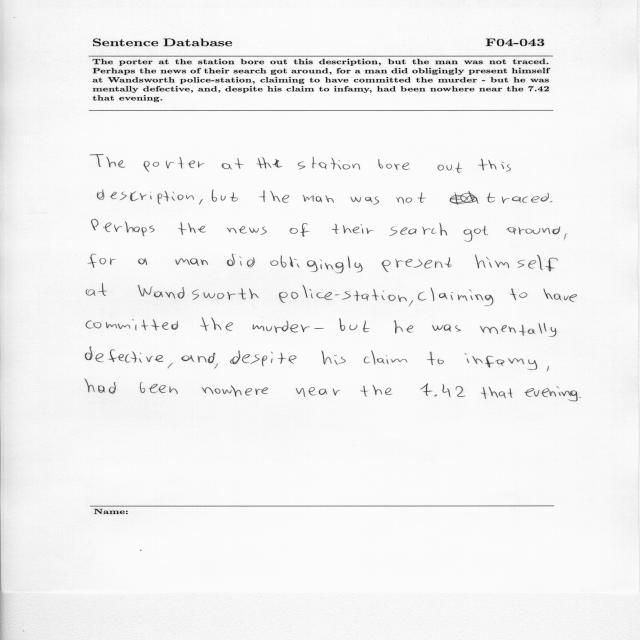word: (279, 285, 413, 306), (138, 285, 259, 300), (270, 255, 363, 273), (97, 190, 194, 205), (475, 255, 558, 272), (450, 191, 549, 205), (465, 353, 538, 370), (86, 347, 163, 363), (431, 287, 493, 306), (87, 319, 179, 331), (92, 219, 155, 236), (480, 323, 556, 337), (382, 257, 452, 272), (144, 157, 205, 172), (298, 157, 360, 170), (525, 386, 578, 401), (242, 352, 297, 366), (389, 223, 447, 236), (201, 386, 268, 397), (253, 321, 310, 333), (420, 383, 466, 397), (181, 352, 218, 369), (364, 351, 407, 364), (90, 154, 125, 168), (543, 288, 577, 302), (85, 379, 116, 394), (200, 317, 233, 331), (140, 382, 178, 394), (296, 387, 340, 397), (478, 159, 511, 172), (507, 227, 560, 235), (332, 224, 374, 234), (339, 319, 369, 333), (88, 254, 116, 268), (260, 190, 290, 203), (464, 226, 488, 242), (360, 385, 392, 397), (321, 351, 346, 366), (481, 387, 512, 399), (178, 222, 206, 235), (227, 254, 255, 267), (396, 192, 426, 204), (227, 226, 267, 235), (378, 159, 410, 170), (212, 190, 238, 202), (257, 157, 283, 168), (290, 223, 310, 237), (87, 283, 108, 296), (222, 158, 244, 170), (438, 162, 462, 173), (175, 258, 208, 266), (303, 195, 334, 203), (395, 321, 414, 334), (351, 197, 380, 205), (427, 352, 444, 365), (511, 288, 528, 300), (432, 325, 461, 332), (230, 351, 240, 364), (418, 292, 426, 301), (138, 259, 147, 266), (168, 363, 173, 368), (199, 199, 203, 205), (564, 234, 568, 240), (547, 366, 549, 372), (314, 328, 324, 329), (550, 201, 552, 202), (579, 397, 581, 398)
